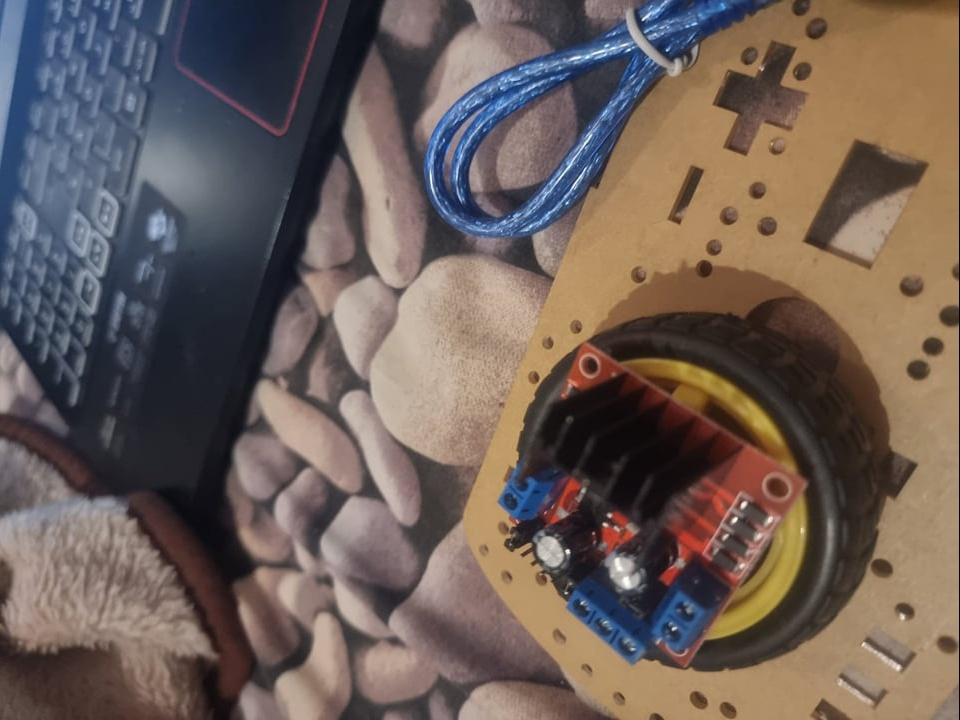MOTOR: (503, 343, 814, 667)
